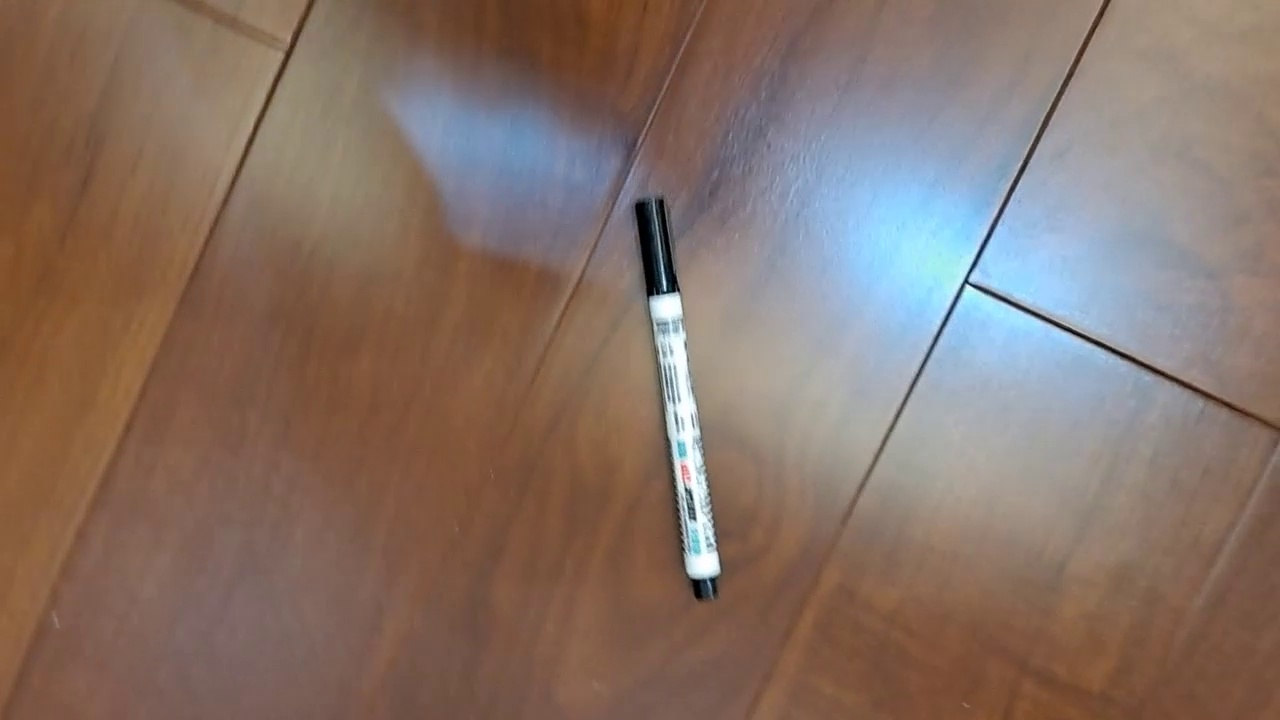pen: (633, 195, 724, 603)
